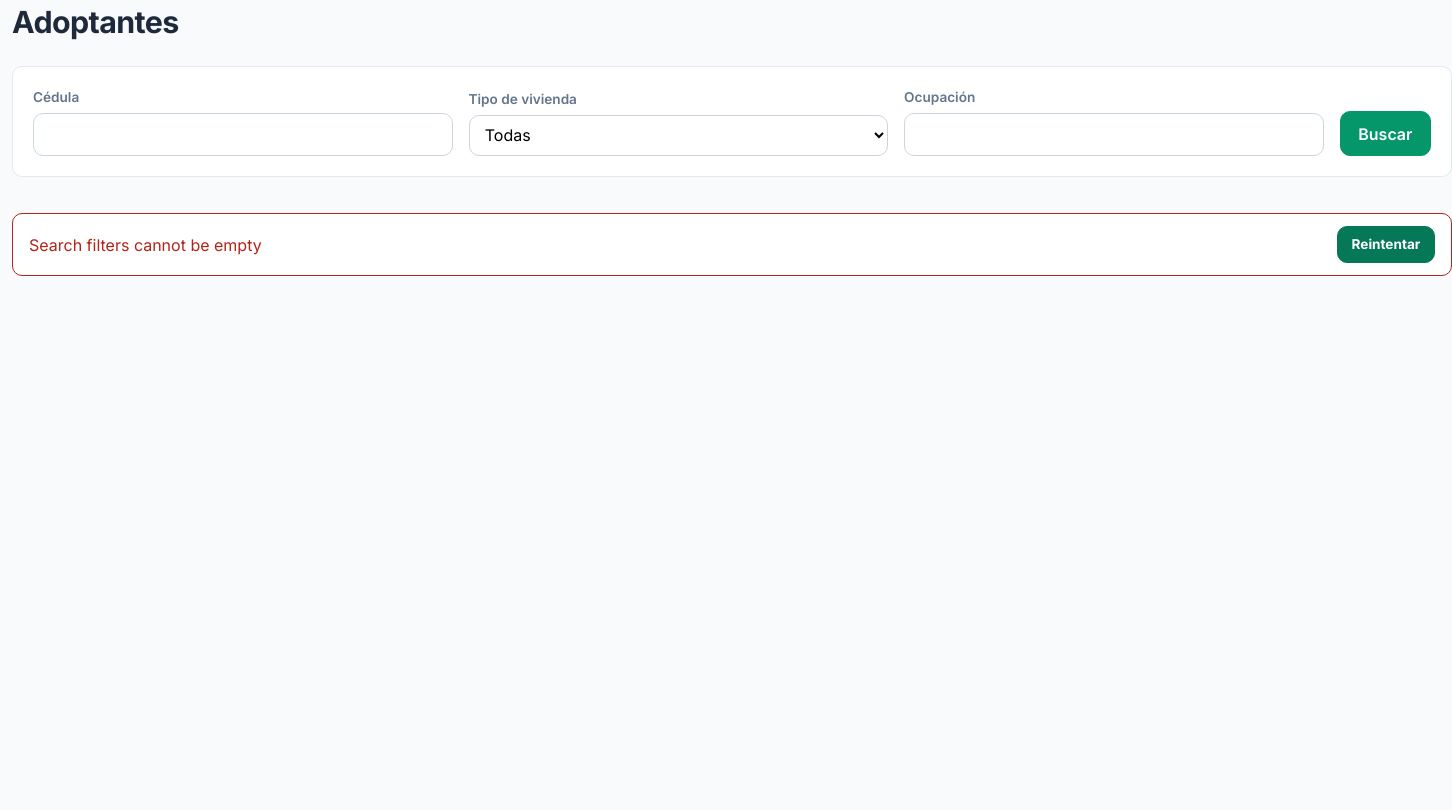
it: AdoptersPage › shows the backend message and retries after a query failure
Expected: the message shows "Search filters cannot be empty", [29,235,262,255]
Step 1. Click the button "Reintentar" → (1386,245), box [1337,226,1435,263]
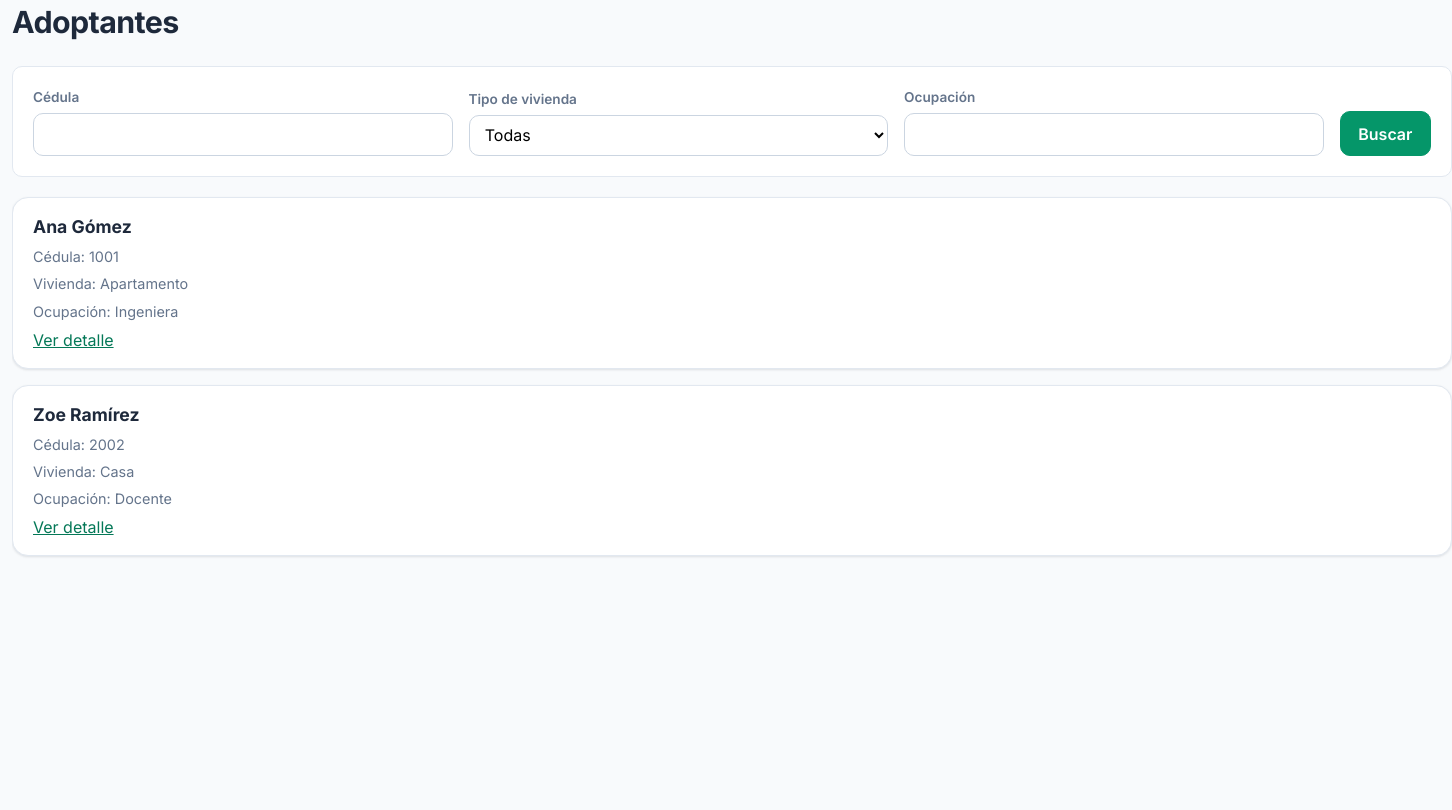
Now the heading "Ana Gómez" is shown, box [33,216,132,237]
